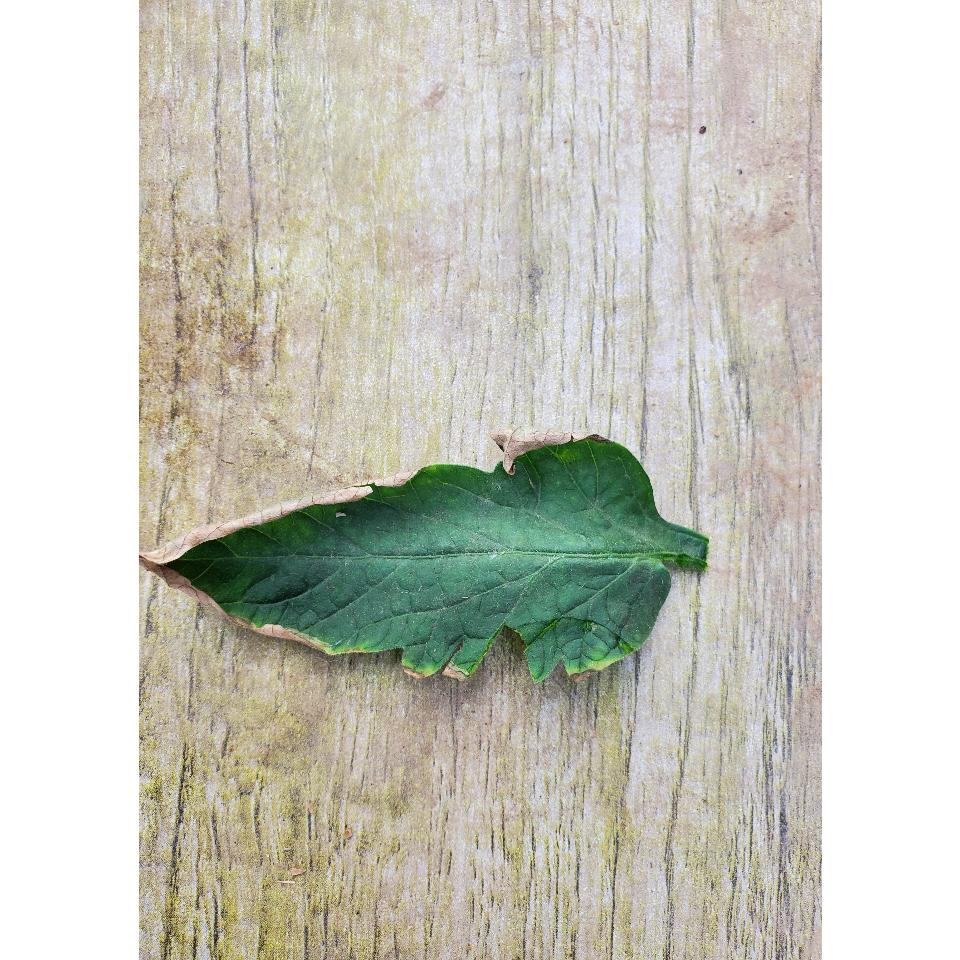tomato_bacterial_blight: (138, 431, 740, 690)
